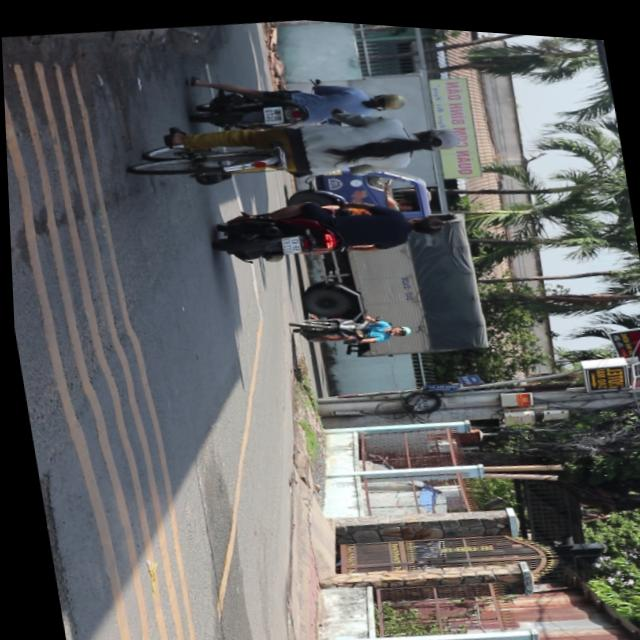helmet: (367, 85, 406, 109)
licenseplate: (206, 177, 450, 276), (184, 55, 411, 143)
motorcyclist: (407, 208, 445, 234)
nohelmet: (262, 101, 283, 121), (279, 232, 300, 251)
